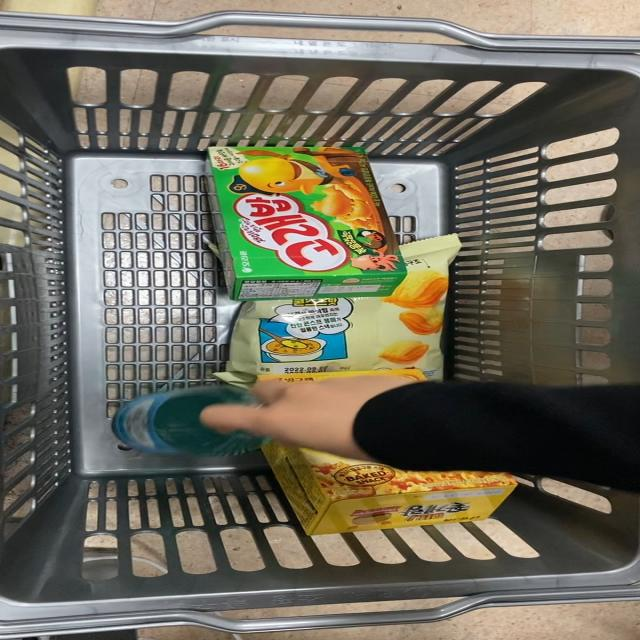ggobukchip: (220, 287, 472, 378)
goraebob: (197, 137, 410, 299)
jinro: (128, 381, 250, 464)
minicrab: (247, 452, 539, 546)
